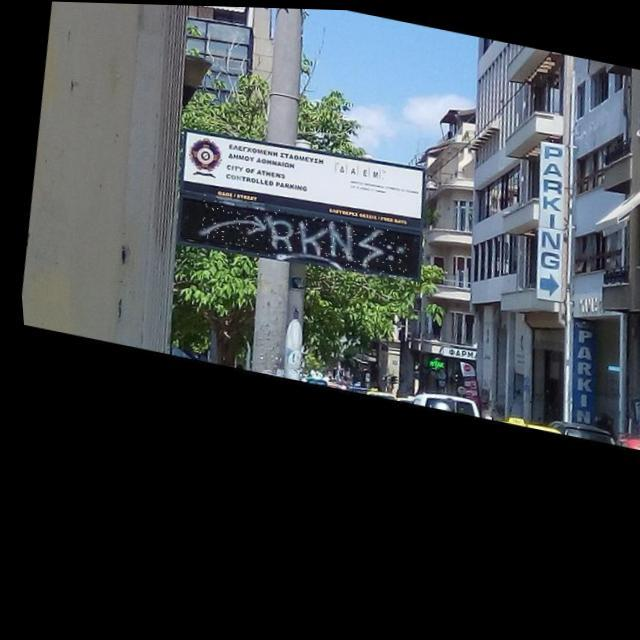-: (191, 190, 409, 282)
